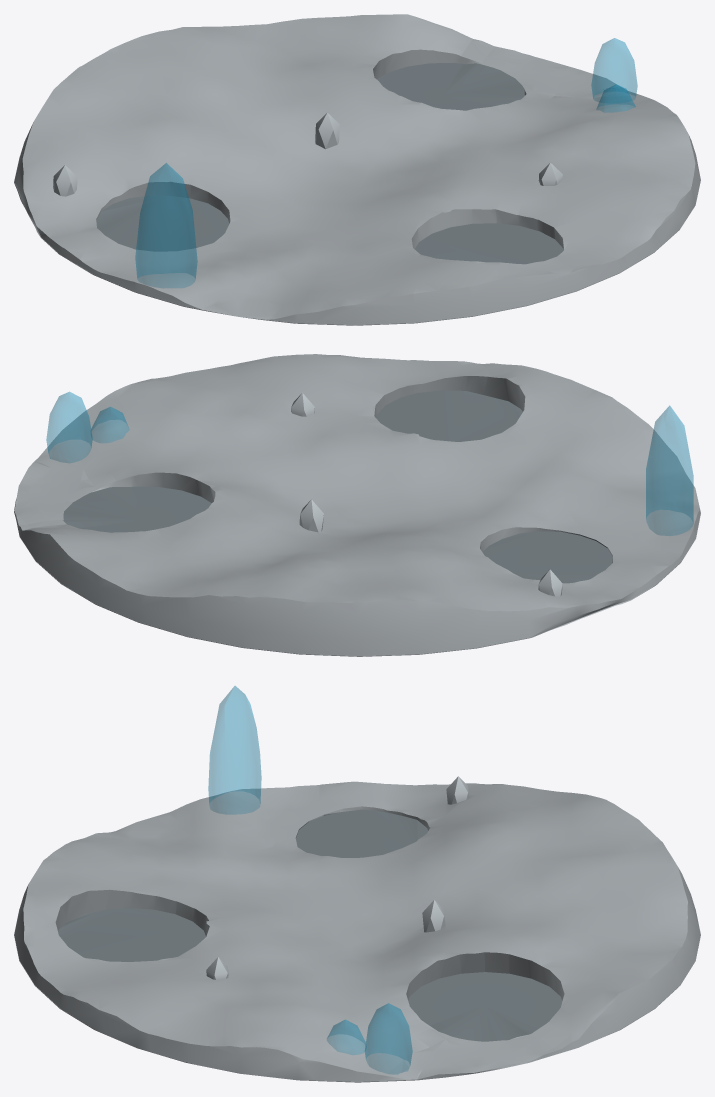
File: MoonLevel.fbx
3 views of the same model, one above another, from view 1: azimuth 30°, elevation 25°; view 2: azimuth 150°, elevation 25°; view 3: azimuth 270°, elevation 25° (orthographic).
Visible parts, largest first — view 1: Surface, BottomAndWalls, Crystals, Rocks; view 2: Surface, BottomAndWalls, Crystals, Rocks; view 3: Surface, BottomAndWalls, Crystals, Rocks.
Part boxes in pixels (x1,y1,x2,y2): Surface: (22,14,695,319); BottomAndWalls: (14,122,700,325); Crystals: (135,38,637,288); Rocks: (53,112,562,196); Surface: (14,354,699,611); BottomAndWalls: (14,497,700,656); Crystals: (46,392,693,535); Rocks: (291,393,562,596); Surface: (23,782,687,1079); BottomAndWalls: (14,781,700,1082); Crystals: (208,686,412,1074); Rocks: (206,776,468,979).
Bounding box in the file's own units: 145 × 29.05 × 143.
